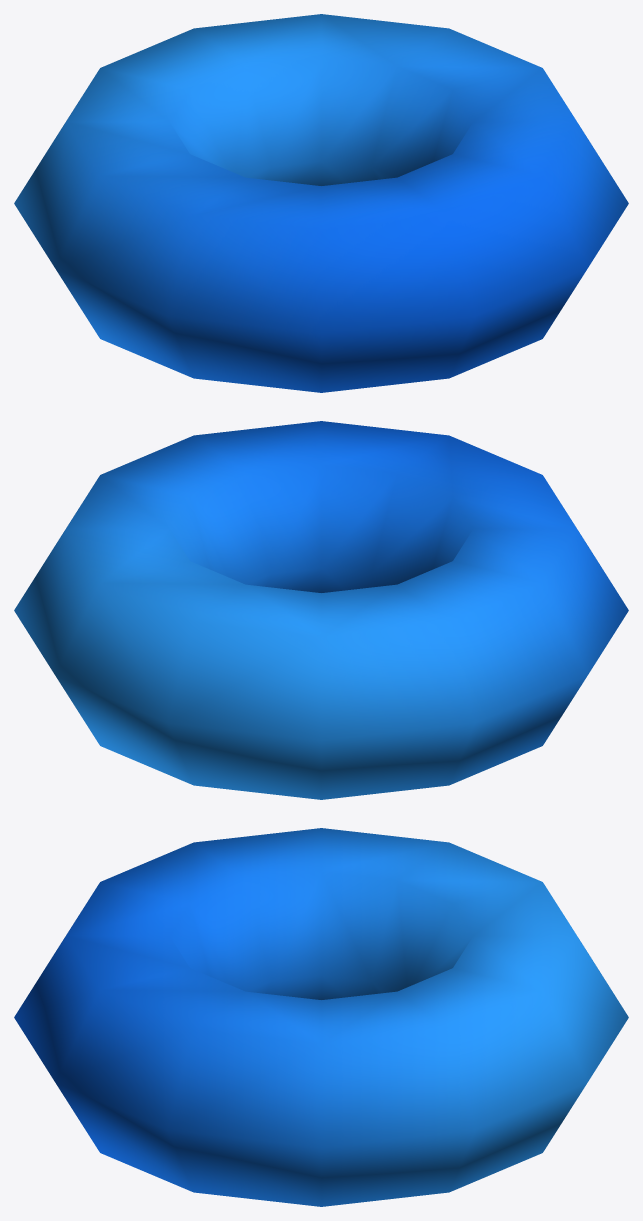
The model's file is CartoonFont_O.FBX.
3 views of the same model, one above another, from view 1: azimuth 30°, elevation 25°; view 2: azimuth 150°, elevation 25°; view 3: azimuth 270°, elevation 25° (orthographic).
Visible parts, largest first — view 1: O; view 2: O; view 3: O.
Part boxes in pixels (<box>): O: <box>14,14,628,392</box>; O: <box>14,421,628,799</box>; O: <box>14,828,628,1206</box>.
Size of the model in its own units: 32.36 by 9.46 by 32.36.
Materials: 1 (1 with a texture image).
